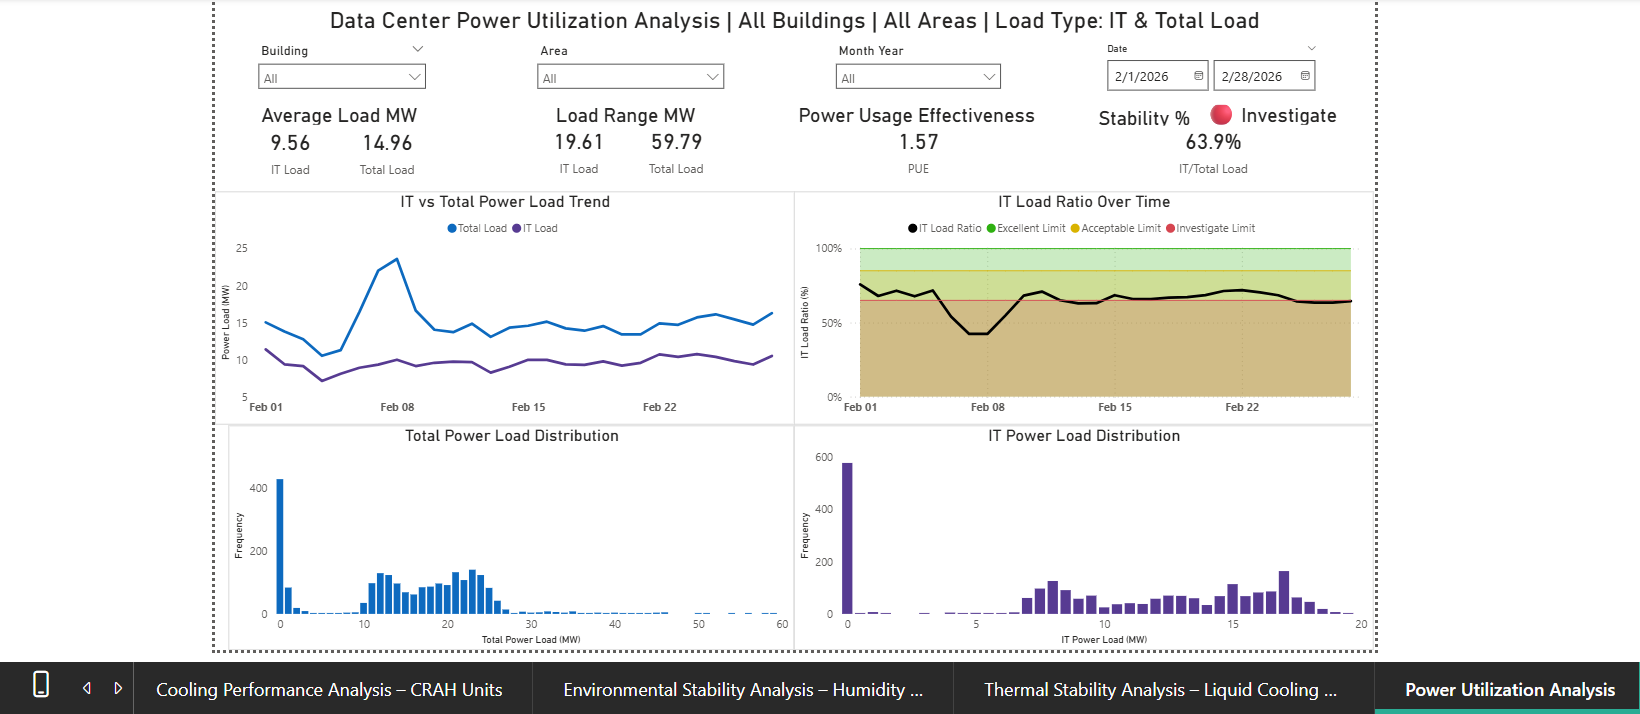

What the dashboard file says about the page in this screenshot:
{"tool":"powerbi","page":{"name":"Power Utilization Analysis","canvas":[1280,720],"ordinal":4},"visuals":[{"type":"slicer","fields":{"Values":["Facts.Building"]},"box":[37.6,45.1,204.7,69.8],"z":0},{"type":"slicer","fields":{"Values":["Facts.Area"]},"box":[347,45.1,226,69.8],"z":1000},{"type":"slicer","fields":{"Values":["DimDateTime.Date"]},"box":[971.9,45.1,256.3,83.4],"z":2000},{"type":"card","fields":{"Values":["DimDateTime.Avg_IT_Load"]},"box":[30.2,134.9,106,66.3],"z":3000},{"type":"card","fields":{"Values":["DimDateTime.IT_Load_Ratio"]},"box":[1049.4,133,104.1,68.2],"z":4000},{"type":"slicer","fields":{"Values":["DimDateTime.Month Year"]},"box":[676.1,45.1,201.7,69.8],"z":5000},{"type":"card","fields":{"Values":["DimDateTime.Dynamic_Title_Power"]},"box":[0,0,1280,46.7],"z":6000},{"type":"card","fields":{"Values":["DimDateTime.Load_Ratio%"]},"box":[969.5,117,113.6,28.4],"z":7000},{"type":"card","fields":{"Values":["DimDateTime.Power_Efficiency_Status"]},"box":[1083.2,113.3,166.6,32.2],"z":8000},{"type":"card","fields":{"Values":["DimDateTime.Avg_Total_Load"]},"box":[136.3,134.4,107.9,66.3],"z":9000},{"type":"card","fields":{"Values":["DimDateTime.IT_Load_Range"]},"box":[349.1,133,104.1,68.2],"z":10000},{"type":"card","fields":{"Values":["DimDateTime.Total_Load_Range"]},"box":[453,133,113.6,68.2],"z":11000},{"type":"card","fields":{"Values":["DimDateTime.PUE"]},"box":[687.8,133,178,68.2],"z":12000},{"type":"card","fields":{"Values":["DimDateTime.TXT_PUE"]},"box":[628.6,107.6,293.5,41.7],"z":13000},{"type":"card","fields":{"Values":["DimDateTime.TXT_Load_Range"]},"box":[361.6,111.4,183.7,36],"z":14000},{"type":"lineChart","title":"IT vs Total Power Load Trend","fields":{"Category":["DimDateTime.Date"],"Y":["DimDateTime.Avg_Total_Load","DimDateTime.Avg_IT_Load"]},"box":[0,214,640,257.5],"z":15000},{"type":"areaChart","title":"IT Load Ratio Over Time","fields":{"Category":["DimDateTime.Date"],"Y":["DimDateTime.IT_Load_Ratio","DimDateTime.Efficiency_Excelent_Line","DimDateTime.Efficiency_Excellent_Line","DimDateTime.Efficiency_Acceptable_Line"]},"box":[640,214,640,257.5],"z":16000},{"type":"card","fields":{"Values":["DimDateTime.Avg_Load"]},"box":[29.7,113.3,214,32.2],"z":17000},{"type":"clusteredColumnChart","title":"Total Power Load Distribution","fields":{"Category":["Facts.Power (bins)"],"Y":["CountNonNull(Facts.Value)"]},"box":[15.1,471.5,624.9,248],"z":18000},{"type":"clusteredColumnChart","title":"IT Power Load Distribution","fields":{"Y":["CountNonNull(Facts.Value)"],"Category":["Facts.IT Power (bins)"]},"box":[640,471.5,640,248],"z":19000}]}

Visuals, with their boxes on the page's 1280x720 design canvas (x1, y1, x2, y2). These are canvas units, not pixel positions in the 1640x714 screenshot, which may show the page scaled, cropped or inside an application window:
slicer - Facts.Building: [x1=38, y1=45, x2=242, y2=115]
slicer - Facts.Area: [x1=347, y1=45, x2=573, y2=115]
slicer - DimDateTime.Date: [x1=972, y1=45, x2=1228, y2=128]
card - DimDateTime.Avg_IT_Load: [x1=30, y1=135, x2=136, y2=201]
card - DimDateTime.IT_Load_Ratio: [x1=1049, y1=133, x2=1154, y2=201]
slicer - DimDateTime.Month Year: [x1=676, y1=45, x2=878, y2=115]
card - DimDateTime.Dynamic_Title_Power: [x1=0, y1=0, x2=1280, y2=47]
card - DimDateTime.Load_Ratio%: [x1=970, y1=117, x2=1083, y2=145]
card - DimDateTime.Power_Efficiency_Status: [x1=1083, y1=113, x2=1250, y2=146]
card - DimDateTime.Avg_Total_Load: [x1=136, y1=134, x2=244, y2=201]
card - DimDateTime.IT_Load_Range: [x1=349, y1=133, x2=453, y2=201]
card - DimDateTime.Total_Load_Range: [x1=453, y1=133, x2=567, y2=201]
card - DimDateTime.PUE: [x1=688, y1=133, x2=866, y2=201]
card - DimDateTime.TXT_PUE: [x1=629, y1=108, x2=922, y2=149]
card - DimDateTime.TXT_Load_Range: [x1=362, y1=111, x2=545, y2=147]
"IT vs Total Power Load Trend" lineChart: [x1=0, y1=214, x2=640, y2=472]
"IT Load Ratio Over Time" areaChart: [x1=640, y1=214, x2=1280, y2=472]
card - DimDateTime.Avg_Load: [x1=30, y1=113, x2=244, y2=146]
"Total Power Load Distribution" clusteredColumnChart: [x1=15, y1=472, x2=640, y2=720]
"IT Power Load Distribution" clusteredColumnChart: [x1=640, y1=472, x2=1280, y2=720]
